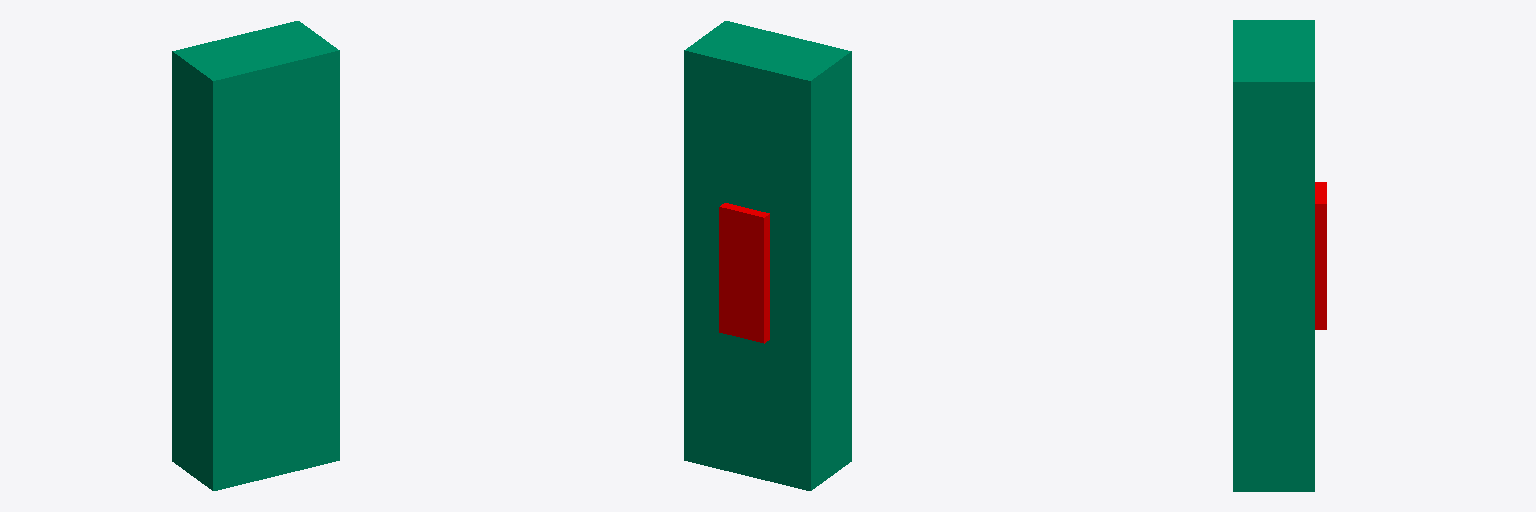
robot.urdf — knife:
<?xml version='1.0' encoding='utf-8'?>
<robot name="knife">
  <link name="base" /><joint name="joint_0" type="fixed"><origin xyz="0 0 0" rpy="0 0 0" /><parent link="base" /><child link="link_0" /></joint><link name="link_1">
    <visual name="link_1">
      <origin xyz="0 0.010977 0" rpy="0 0 0" />
      <geometry>
        <box size="0.012302406076397345 0.0026645926199941315 0.032684894528168404" /></geometry>
    <material name="red"><color rgba="1 0 0 1" /></material></visual>
    <collision>
      <origin xyz="0 0.010977 0" rpy="0 0 0" />
      <geometry>
        <box size="0.012302406076397345 0.0026645926199941315 0.032684894528168404" /></geometry>
    </collision>
    </link>
  <joint name="joint_1" type="prismatic">
    <origin xyz="0 0 0" />
    <axis xyz="0 0 1" />
    <child link="link_1" />
    <parent link="link_0" />
    <limit lower="-0.014535" upper="0.035465" effort="100.0" velocity="1.0" />
  </joint>
  <link name="link_0">
    <visual name="link_0">
      <origin xyz="0 0 0" />
      <geometry>
        <box size="0.03432593423482504 0.019290284833375887 0.10661591848131982" /></geometry>
    </visual>
    <collision>
      <origin xyz="0 0 0" />
      <geometry>
        <box size="0.03432593423482504 0.019290284833375887 0.10661591848131982" /></geometry>
    </collision>
    </link>
</robot>

--- Facts derived from the render (not from the file) ---
3 views of the same robot in one strip: view 1: azimuth 30°, elevation 25°; view 2: azimuth 150°, elevation 25°; view 3: azimuth 270°, elevation 25° (orthographic).
Model knife with 3 links and 2 joints (1 prismatic, 1 fixed), rooted at base, posed every joint at zero.
Visible links, largest first — view 1: link_0; view 2: link_0, link_1; view 3: link_0, link_1.
Boxes of the visible links, x1,y1,x2,y2 form: link_0: [172, 21, 339, 490]; link_0: [684, 21, 851, 490]; link_1: [719, 203, 769, 343]; link_0: [1233, 20, 1314, 491]; link_1: [1315, 182, 1326, 329].
Size in the robot's own frame: 0.0343 by 0.022 by 0.1066 metres.
Geometry: primitives only (box / cylinder / sphere), no mesh files.
